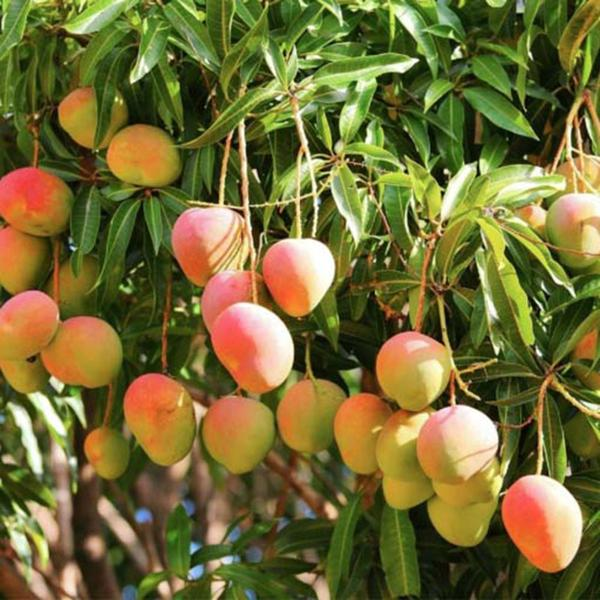mango: (207, 303, 307, 397), (502, 474, 583, 574), (123, 374, 199, 468), (415, 406, 501, 489), (205, 397, 285, 486), (261, 235, 339, 323), (292, 205, 379, 280), (374, 331, 449, 414), (97, 122, 188, 187), (44, 317, 124, 385), (1, 168, 72, 229), (334, 394, 378, 482), (1, 284, 57, 349), (83, 419, 120, 478)
